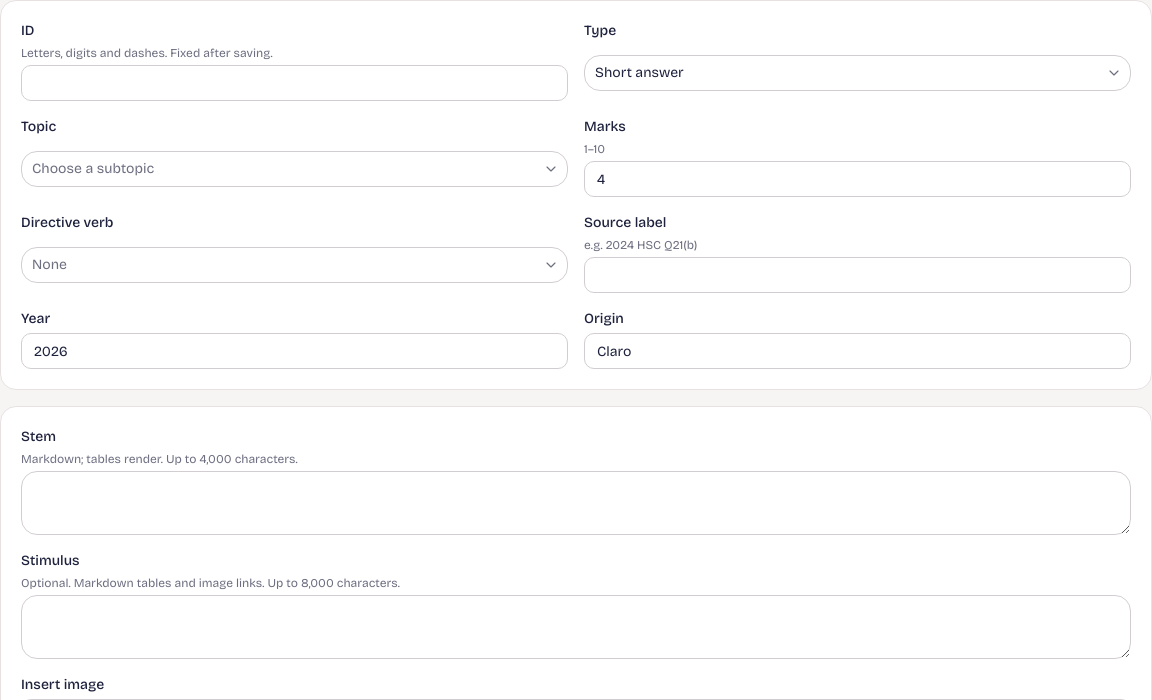
Test: keeps a pristine question unsaved and hides validation until a save attempt
The width and height of the screenshot is (1152, 700).
Type "Explain inflation" into the text box labelled "Stem".
click(576, 503); type("Explain inflation")  # box [21, 471, 1131, 535]
(page scrolled)
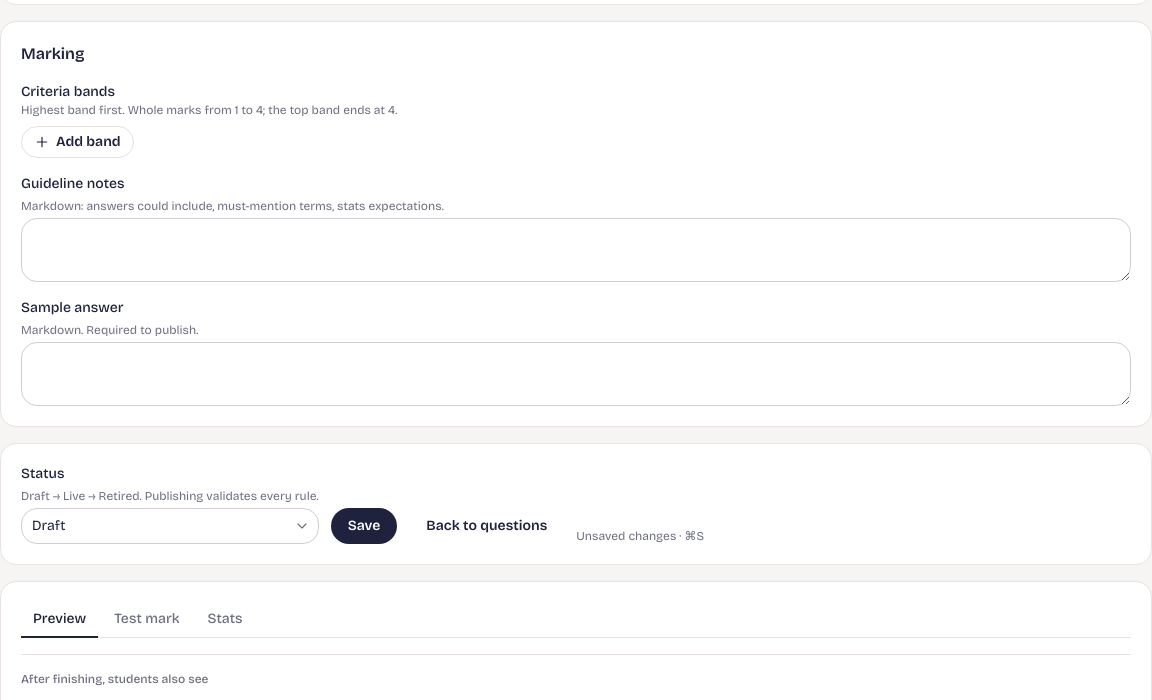
Expected: the text "Add at least one band." is not shown
Now the text "Unsaved changes · ⌘S" is shown, box [576, 528, 704, 544]
Press s
(page scrolled)
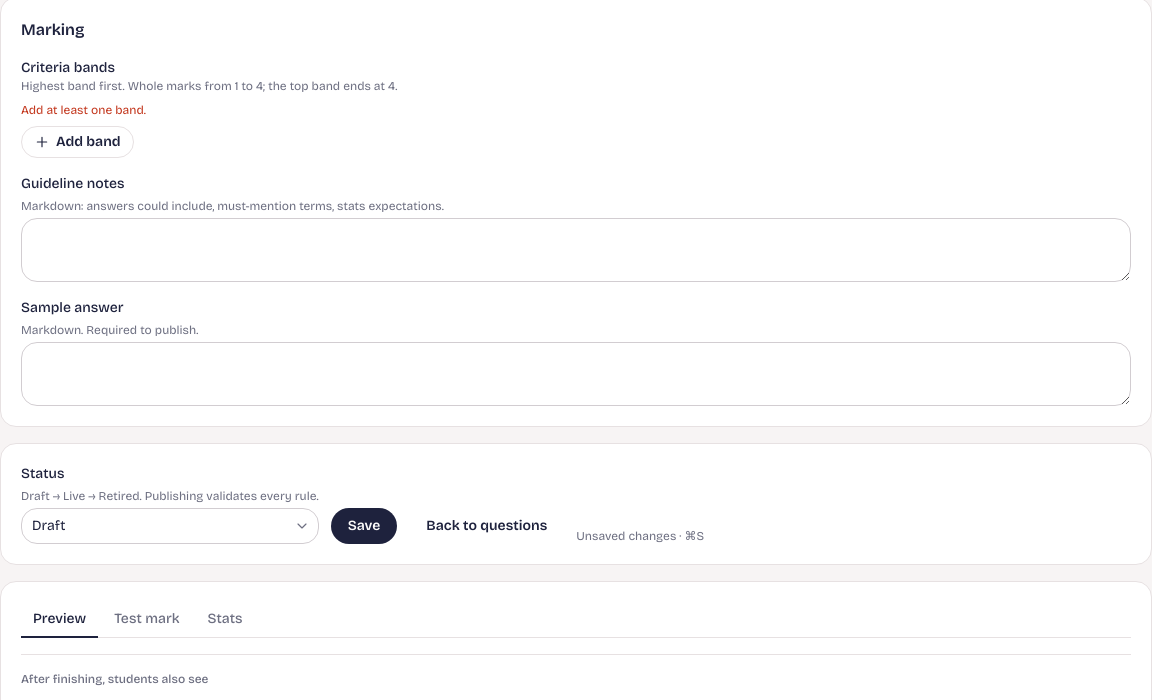
Now the text "Add at least one band." is shown, box [21, 103, 146, 117]
